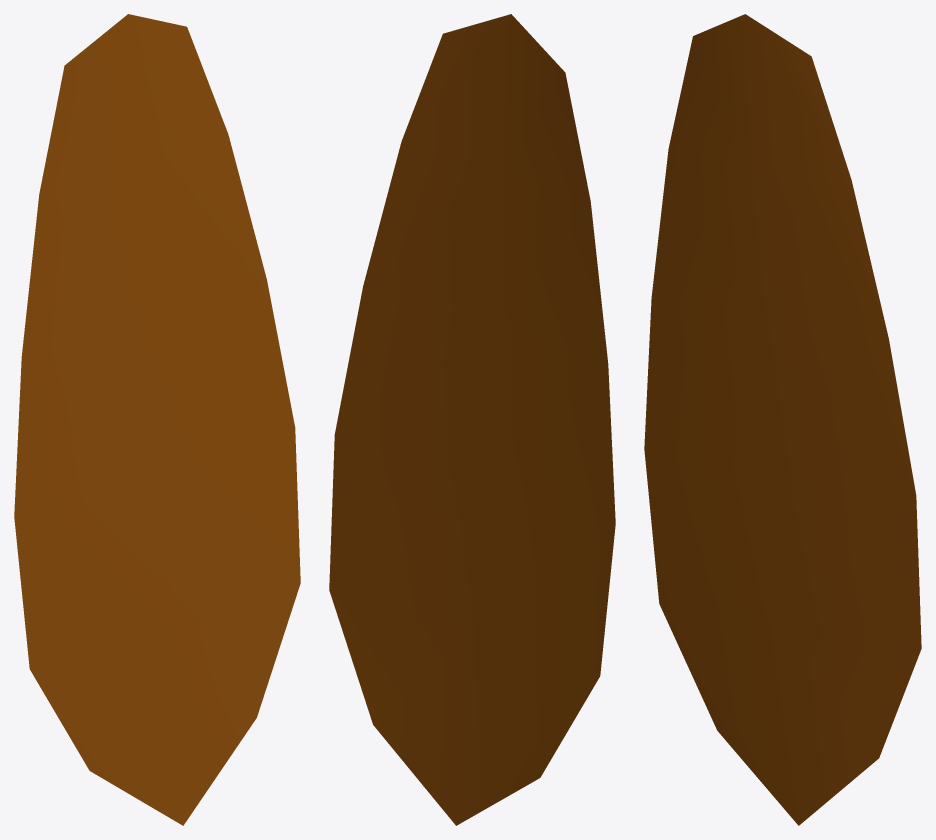
Rendered from ara_feather_flight_secondary_006.obj.
The picture shows the model from 3 angles, left to right: view 1: azimuth 30°, elevation 25°; view 2: azimuth 150°, elevation 25°; view 3: azimuth 330°, elevation 25°; orthographic projection. The views are drawn at different scales.
Parts seen in each view (by area): view 1: feather_flight_secondary_006; view 2: feather_flight_secondary_006; view 3: feather_flight_secondary_006.
Part boxes in pixels (x1,y1,x2,y2): feather_flight_secondary_006: (14, 14, 300, 825); feather_flight_secondary_006: (329, 14, 615, 825); feather_flight_secondary_006: (644, 14, 921, 825).
Size of the model in its own units: 0.025 by 0.0689 by 0.000724.
